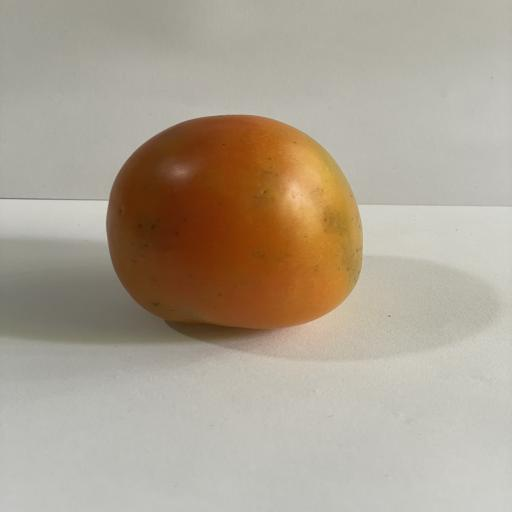unripe: (107, 115, 362, 329)
